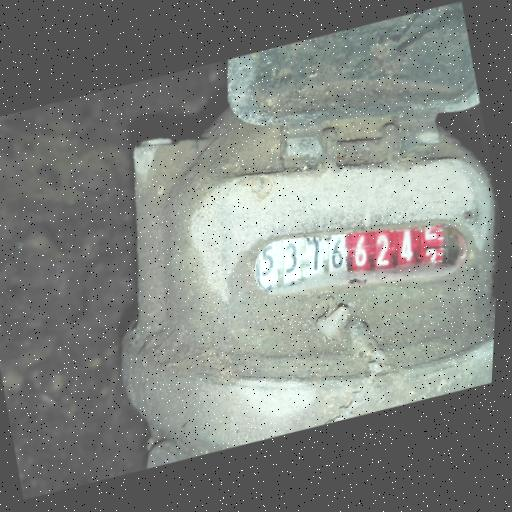2: (361, 225, 403, 282)
3: (408, 221, 455, 282), (270, 234, 311, 291)
4: (386, 224, 428, 280)
5: (249, 238, 287, 292)
6: (339, 228, 382, 285), (316, 231, 358, 288)
7: (292, 232, 335, 287)
border_water_meter_number: (234, 183, 489, 335)
